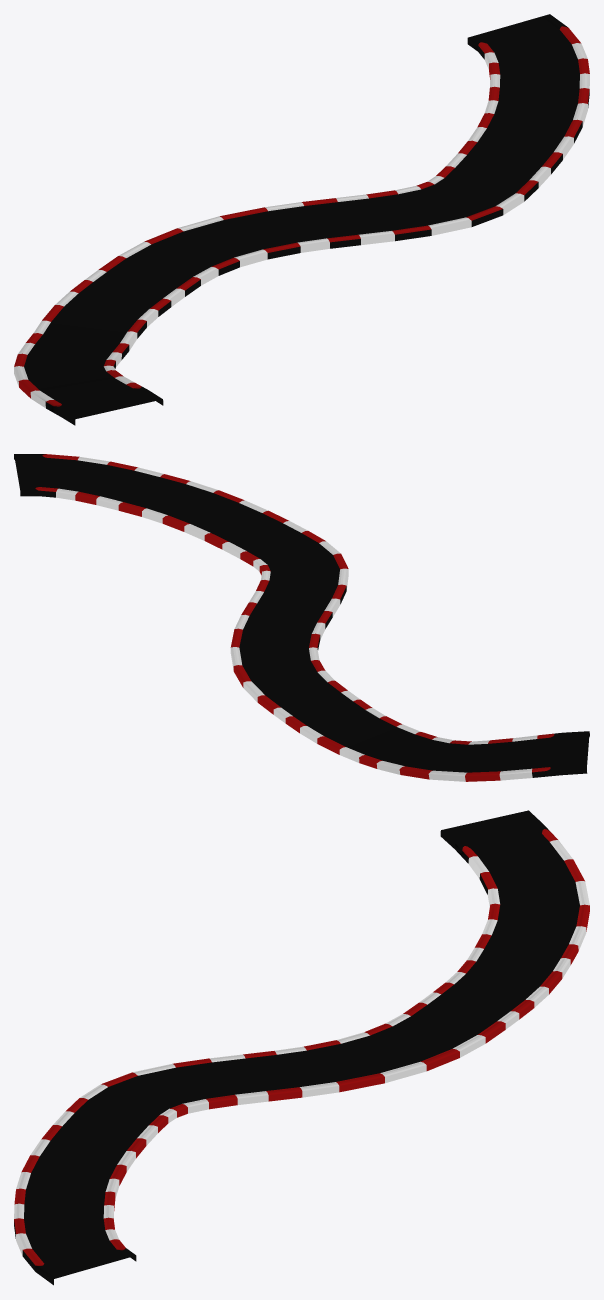
Rendered from track - bridge to dam.FBX.
3 renders of one model, top to bottom at view 1: azimuth 90°, elevation 25°; view 2: azimuth 150°, elevation 25°; view 3: azimuth 270°, elevation 25°, orthographic. The views are drawn at different scales.
Visible parts, largest first — view 1: lead up to dam; view 2: lead up to dam; view 3: lead up to dam.
Boxes of the visible parts, <box> form: lead up to dam: <box>14,14,589,425</box>; lead up to dam: <box>14,454,589,781</box>; lead up to dam: <box>14,810,589,1285</box>.
Bounding box in the file's own units: 291 × 11.88 × 162.
